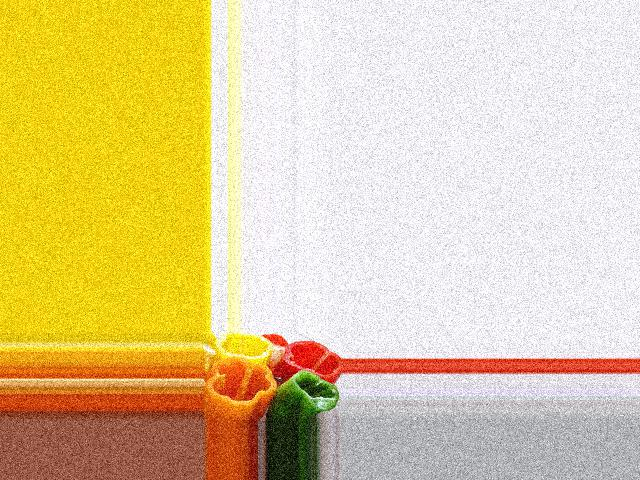bell_pepper: (282, 339, 338, 376)
